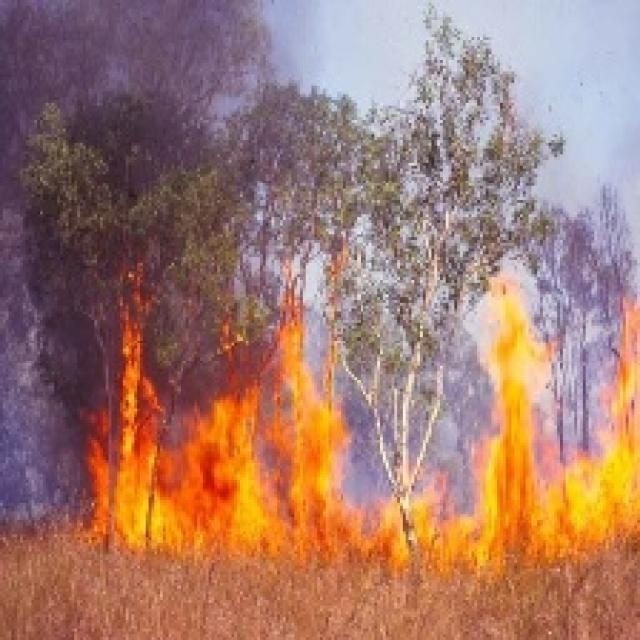Fire: (90, 322, 350, 558), (478, 287, 640, 558)
